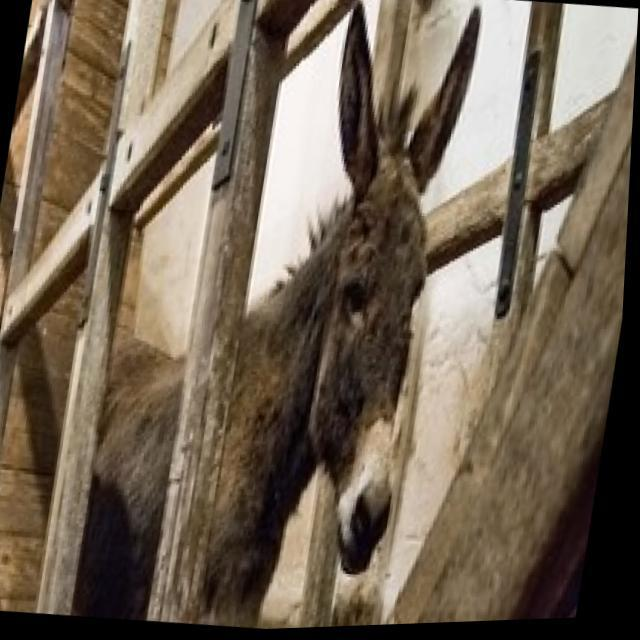Donkey: (71, 0, 490, 637)
